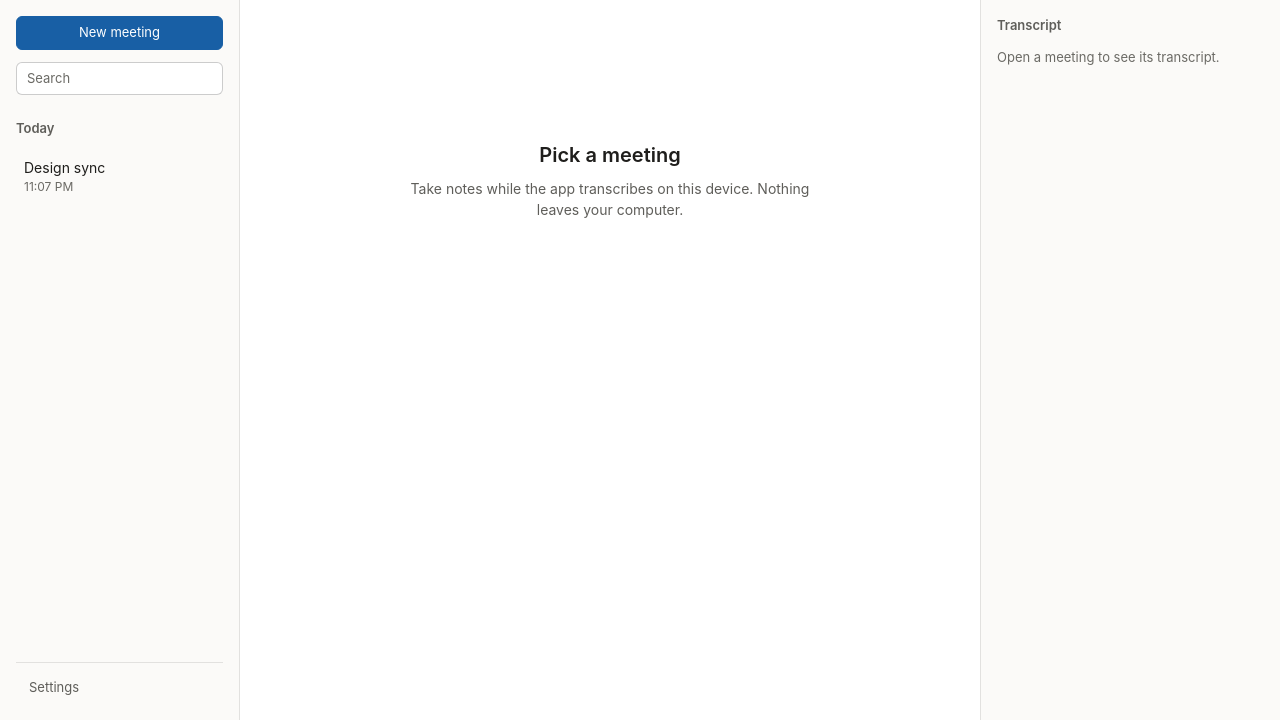
Test: App › search › says when nothing matches, and clears with Escape
expect the button "Design sync 11:07 PM" is shown: met, box x1=16 y1=150 x2=223 y2=202
Type "zebra" into the search field named "Search meetings" at (120, 78), box x1=16 y1=62 x2=223 y2=95
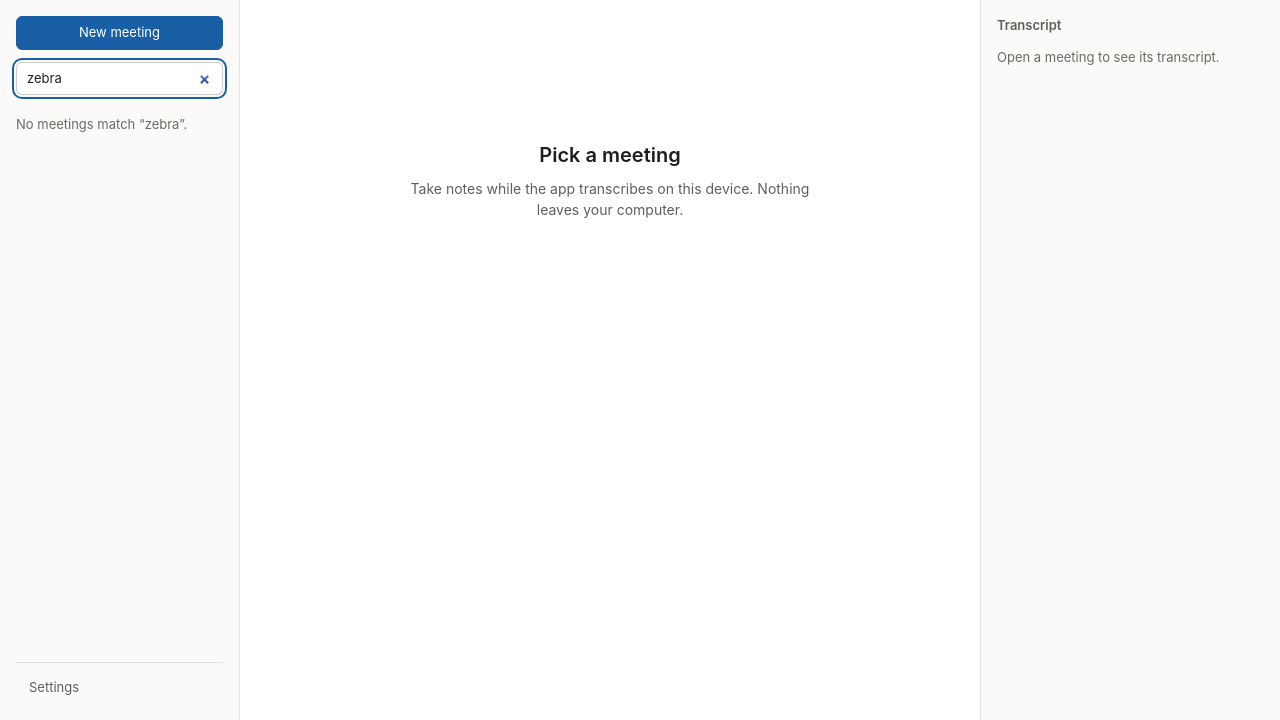
expect the heading "Pick a meeting" is shown: met, box x1=539 y1=143 x2=681 y2=167
expect the text "No meetings match “zebra”." is shown: met, box x1=16 y1=116 x2=187 y2=132
Press Escape
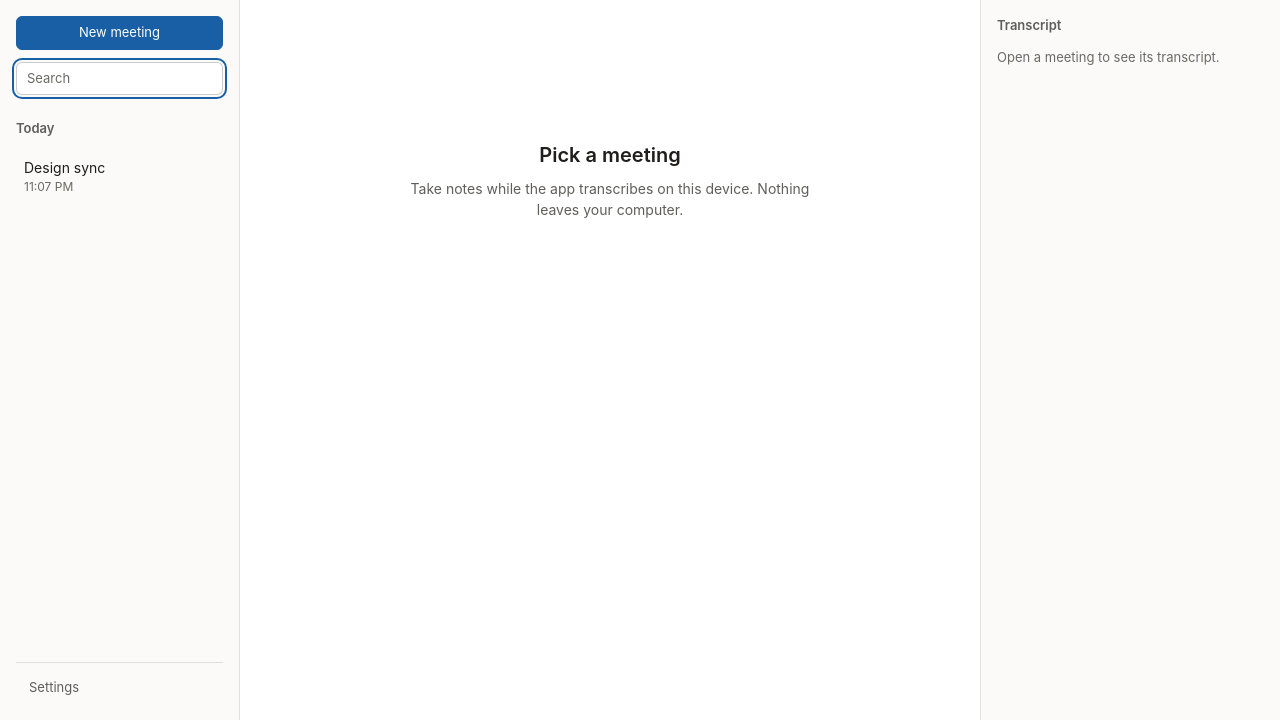
expect the search field named "Search meetings" is empty: met, box x1=16 y1=62 x2=223 y2=95
expect the button "Design sync 11:07 PM" is shown: met, box x1=16 y1=150 x2=223 y2=202
